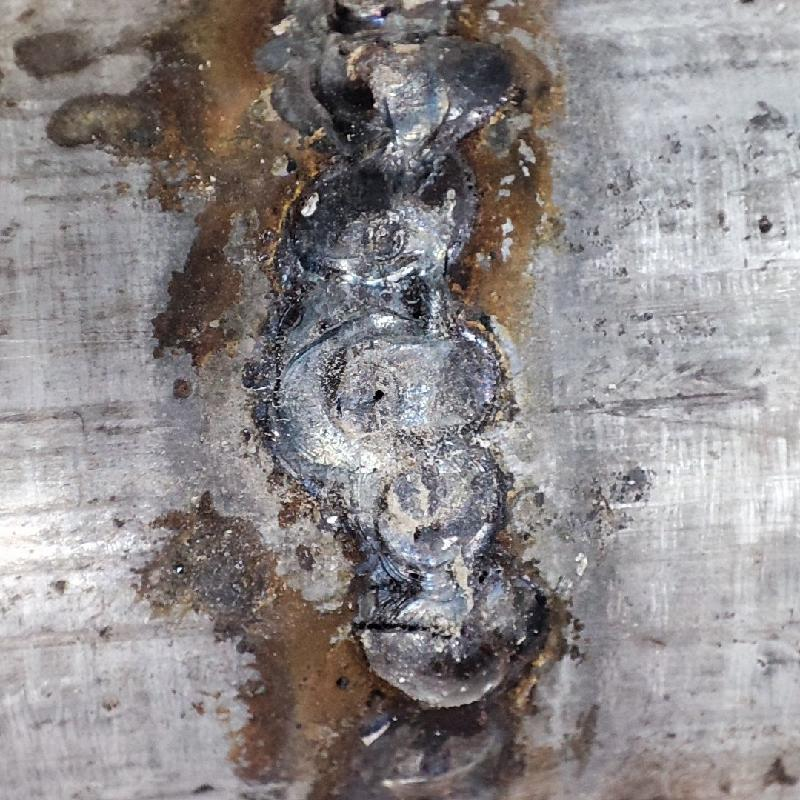Not_fully_soldered: (270, 280, 528, 795)
wrong_size: (263, 1, 498, 272)
